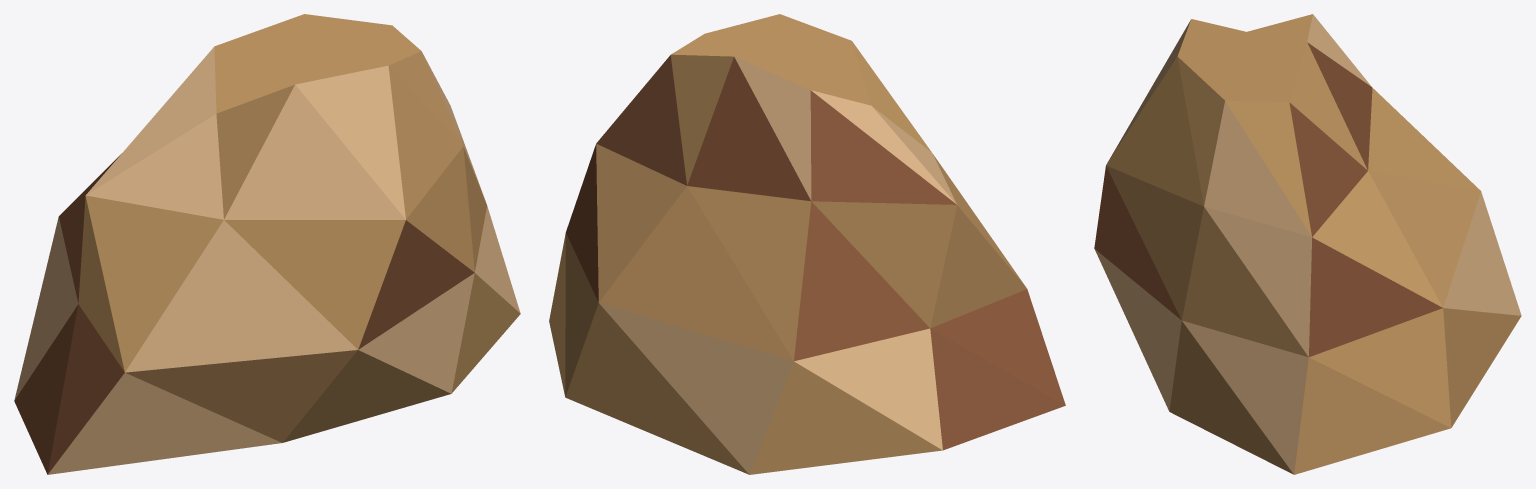
Rendered from Desert_Rock_3.glb.
3 views of the same model, side by side, from view 1: azimuth 30°, elevation 25°; view 2: azimuth 150°, elevation 25°; view 3: azimuth 270°, elevation 25° (orthographic). The views are drawn at different scales.
Visible parts, largest first — view 1: Rock volume.002; view 2: Rock volume.002; view 3: Rock volume.002.
Boxes of the visible parts, box(x1,y1,x2,y2) form: Rock volume.002: box(14, 14, 520, 474); Rock volume.002: box(549, 14, 1065, 474); Rock volume.002: box(1094, 14, 1521, 474).
Size of the model in its own units: 2.04 by 1.3 by 1.5.
